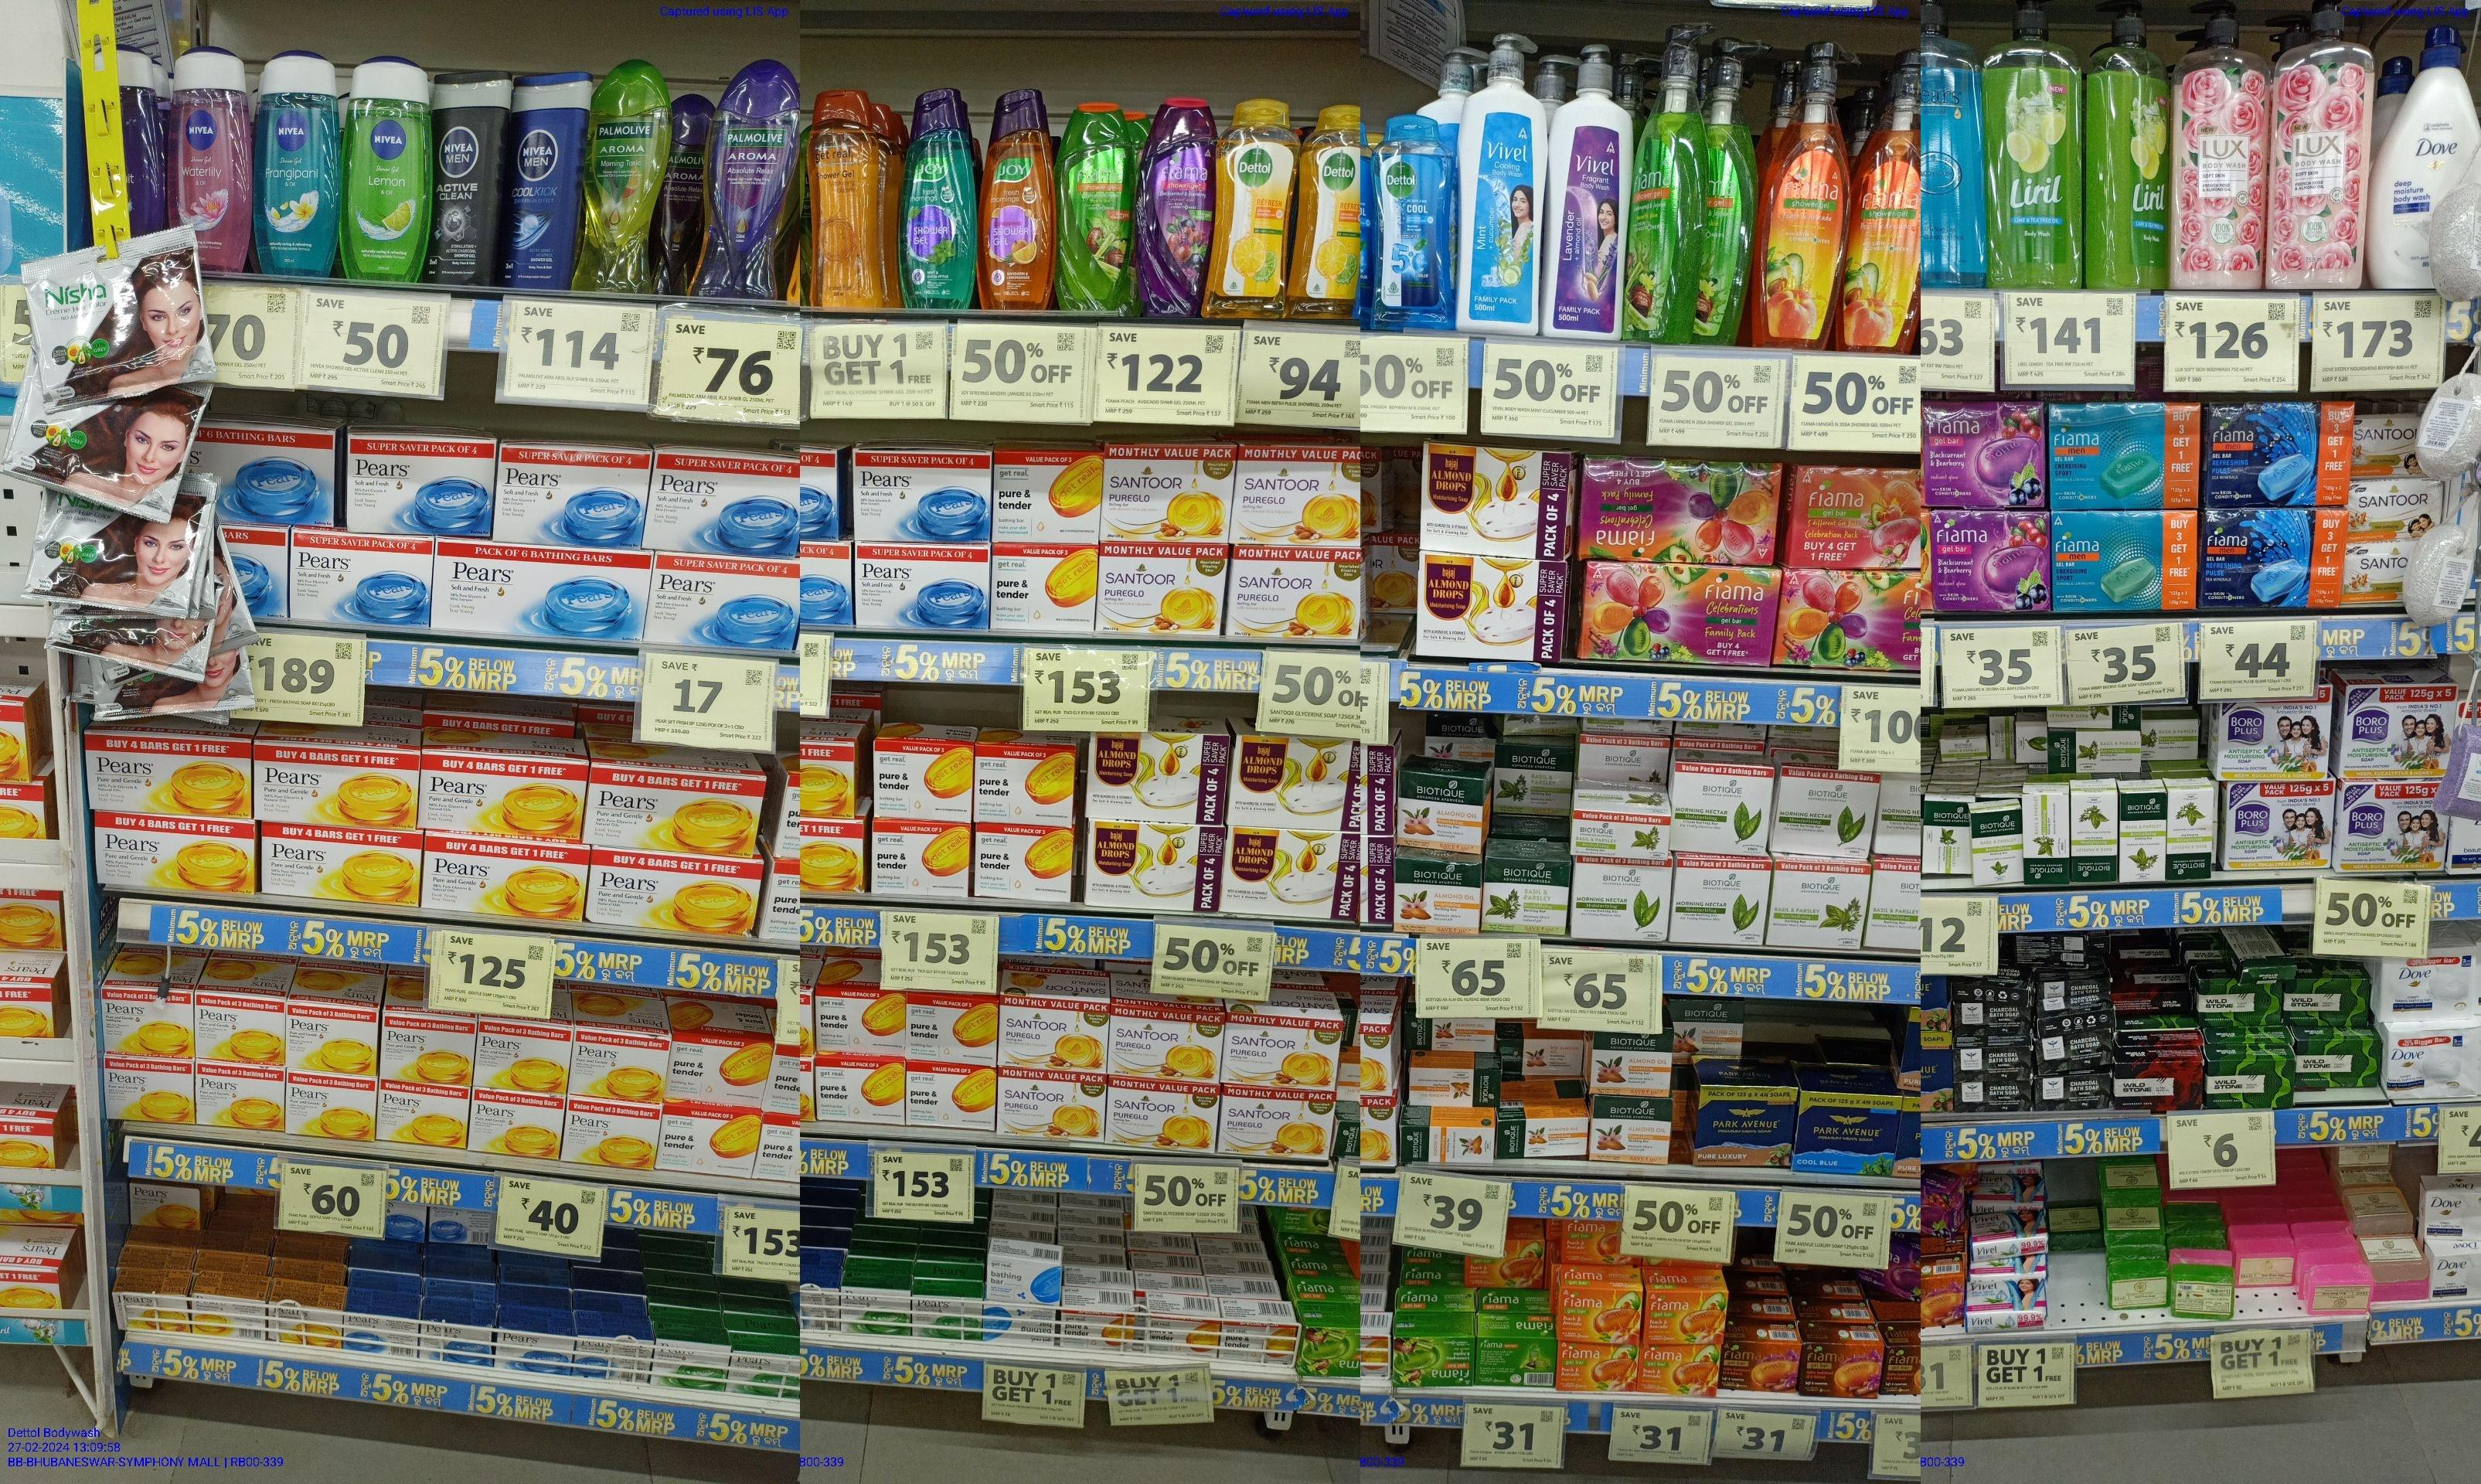Dettol_Bodywash_Cool: (1370, 111, 1457, 336)
Dettol_Bodywash_Refresh: (1218, 95, 1293, 320), (1303, 102, 1361, 325)
Fiama_Shower_Gel_Lemongrass_and_Jojoba_250ML: (1065, 99, 1137, 316)
Get_Real_Shower_Gel_Moisturising_Glycerin_300ML: (807, 87, 885, 313)
Joy_Shower_Gel_Mandarin_and_Lemongrass_250ML: (982, 87, 1060, 313)
Joy_Shower_Gel_Mint_and_Eucalyptus_250ML: (904, 88, 978, 313)
Nivea_Shower_Gel_Frangipani_and_Oil_250ML: (254, 49, 339, 283)
Nivea_Shower_Gel_Lemon_and_Oil_250ML: (346, 57, 433, 281)
Nivea_Shower_Gel_Waterlily_and_Oil_250ML: (173, 42, 251, 274)
Palmolive_Aroma_Morning_Tonic_Shower_Gel_250ML: (592, 55, 667, 297)
Palmolive_Aroma_Relax_250ML: (710, 60, 796, 306)
